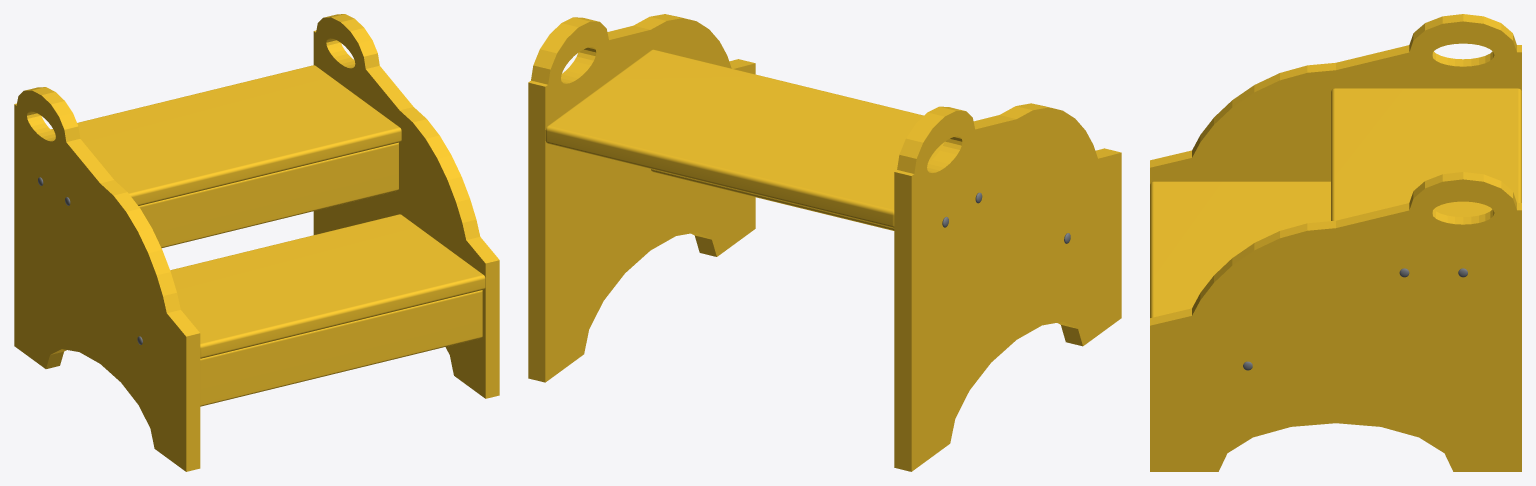
Rendered from step_stool.glb.
3 views of the same model, side by side, from view 1: azimuth 30°, elevation 25°; view 2: azimuth 150°, elevation 25°; view 3: azimuth 270°, elevation 25° (orthographic). The views are drawn at different scales.
Visible parts, largest first — view 1: StoolSide0, StoolStep1, StoolStep0, StoolSide1, StoolApron0, StoolApron1; view 2: StoolSide0, StoolSide1, StoolStep1, StoolStep0; view 3: StoolSide1, StoolSide0, StoolStep1, StoolStep0.
Boxes of the visible parts, x1,y1,x2,y2 form: StoolSide0: (14, 87, 200, 471); StoolStep1: (51, 65, 401, 205); StoolStep0: (170, 214, 485, 358); StoolSide1: (313, 14, 499, 398); StoolApron0: (200, 290, 482, 406); StoolApron1: (138, 142, 398, 247); StoolSide0: (894, 103, 1121, 471); StoolSide1: (528, 14, 755, 382); StoolStep1: (545, 49, 943, 228); StoolStep0: (651, 169, 894, 230); StoolSide1: (1150, 172, 1521, 471); StoolSide0: (1150, 14, 1521, 184); StoolStep1: (1331, 88, 1521, 220); StoolStep0: (1150, 181, 1330, 317).
Bounding box in the file's own units: 0.9022 × 0.7333 × 0.8444.
